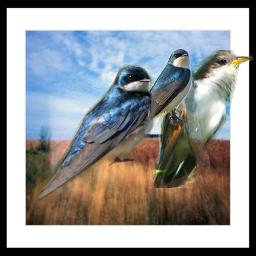Cuckoo: (153, 50, 253, 188)
Swallow: (37, 62, 157, 203), (116, 45, 195, 141)
